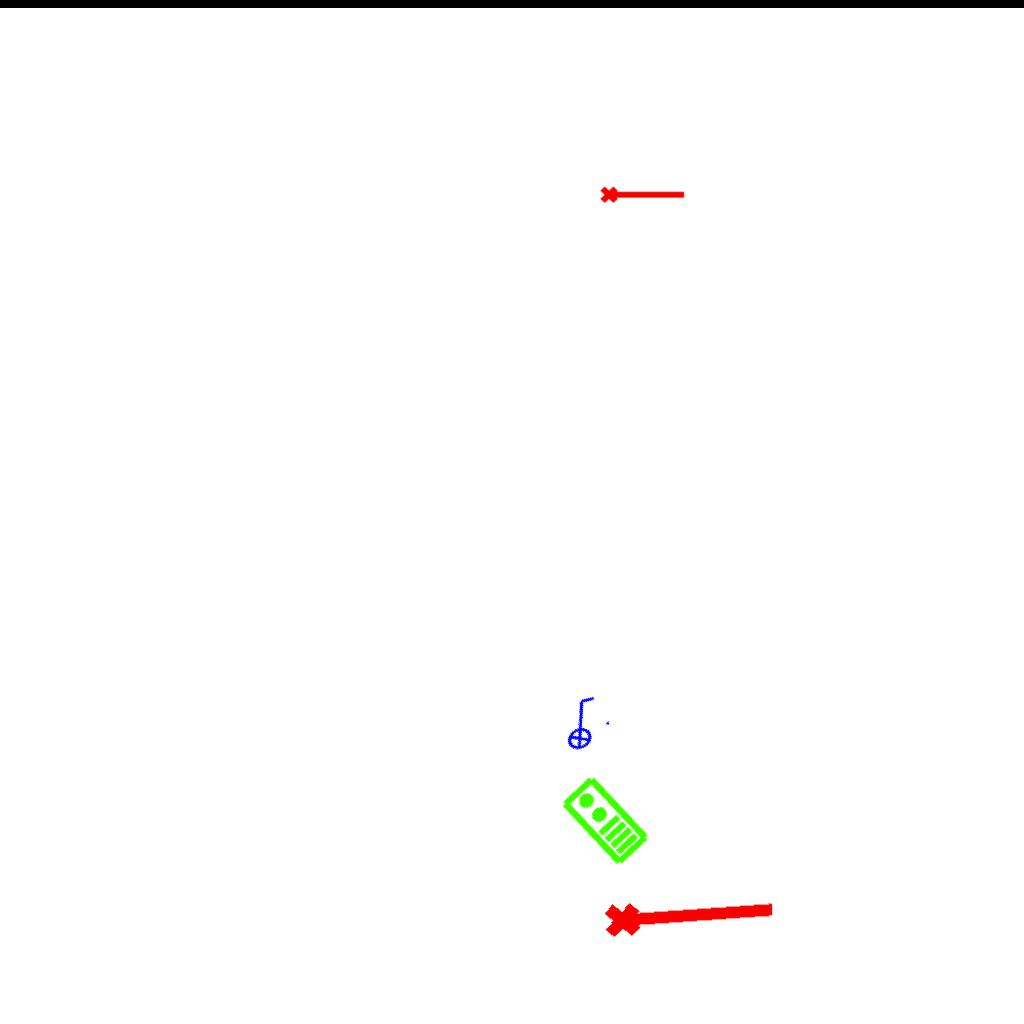ASR_Ansaugoeffnung: (600, 883, 780, 943), (599, 182, 687, 205)
Ausschalter_beleuchtet: (544, 688, 618, 758)
Gegensprechanlage_mit_Video: (557, 772, 652, 870)
